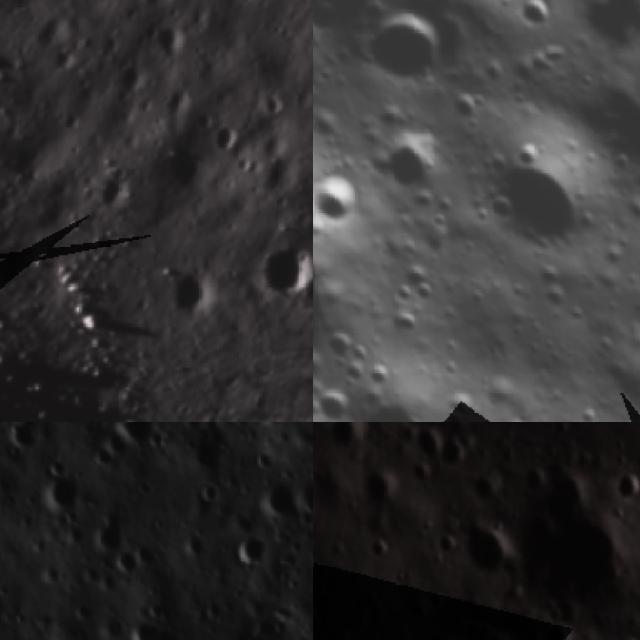crater: (508, 469, 640, 630), (468, 130, 602, 268), (313, 163, 372, 422), (350, 0, 470, 110), (237, 217, 313, 319), (141, 252, 224, 332), (373, 120, 445, 194), (77, 155, 145, 226), (313, 164, 377, 235), (461, 521, 518, 579), (504, 0, 578, 41), (142, 15, 195, 68), (40, 471, 91, 522), (179, 427, 227, 478), (204, 116, 250, 162), (259, 482, 308, 524), (93, 510, 133, 561), (230, 530, 272, 576), (7, 422, 54, 460), (286, 259, 313, 315), (112, 422, 163, 451), (364, 469, 401, 508), (253, 607, 296, 640), (330, 422, 374, 454), (439, 434, 473, 469), (365, 533, 399, 566), (520, 463, 554, 494), (469, 469, 498, 504), (129, 0, 186, 17), (615, 470, 640, 505), (129, 616, 165, 640), (434, 530, 461, 558), (200, 479, 224, 510), (544, 618, 576, 640), (153, 624, 196, 640), (428, 585, 453, 612), (418, 429, 443, 456), (410, 459, 437, 484), (607, 628, 640, 640)
